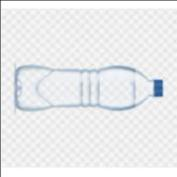bottle: (12, 61, 167, 113)
